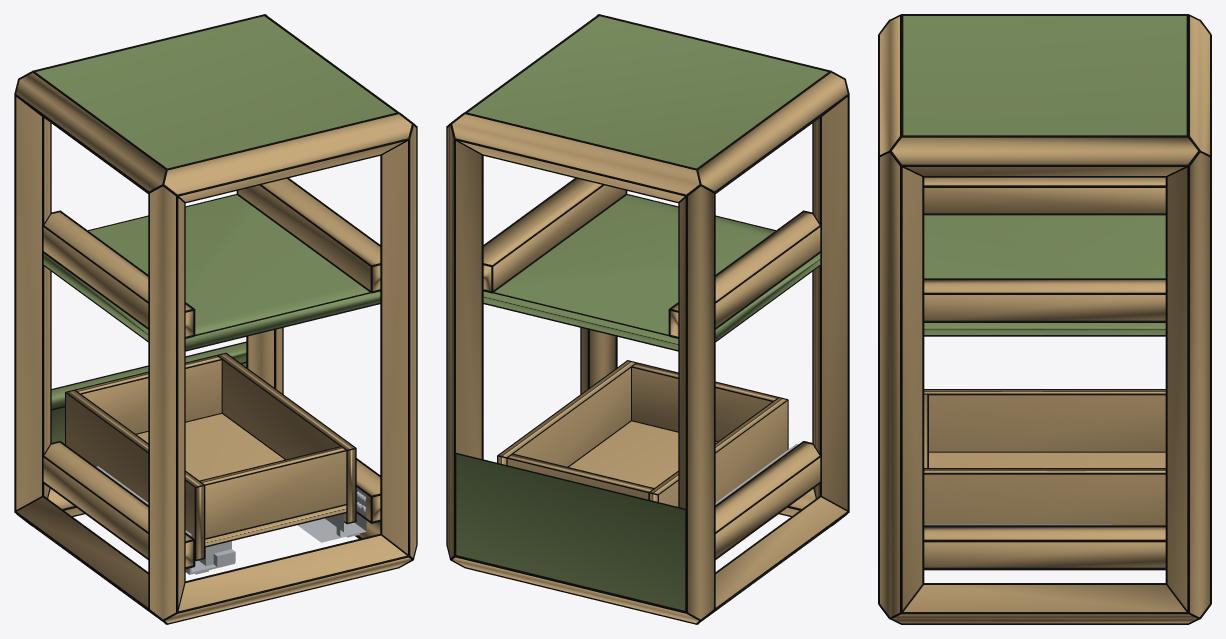
The model's file is 001-table-chevet.glb.
The picture shows the model from 3 angles, left to right: view 1: azimuth 30°, elevation 25°; view 2: azimuth 150°, elevation 25°; view 3: azimuth 270°, elevation 25°; orthographic projection. The views are drawn at different scales.
Visible parts, largest first — view 1: panneau-dessus_exterieur, tablette-plate-mod-0, arete-Z0, arete-Z1, arete-Z2, drawer-box-avant-mod-1, arete-X2, arete-X0, drawer-box-joue_d-mod-1, drawer-box-joue_g-mod-1, tablette-traverse-right-mod-0, tablette-traverse-left-mod-0 (+27 smaller); view 2: panneau-dessus_exterieur, drawer-box-facade-mod-1, tablette-plate-mod-0, arete-Z2, arete-Z0, arete-Z3, arete-X3, drawer-box-joue_d-mod-1, tablette-traverse-right-mod-0, tablette-traverse-left-mod-0, drawer-tr-drawer-traverse-left-mod-1, drawer-box-joue_g-mod-1 (+23 smaller); view 3: panneau-dessus_exterieur, tablette-plate-mod-0, arete-Z1, arete-Z3, drawer-box-joue_g-mod-1, drawer-box-joue_d-mod-1, arete-Y3, arete-Y1, tablette-traverse-right-mod-0, drawer-tr-drawer-traverse-right-mod-1, tablette-traverse-left-mod-0, drawer-box-dessous-mod-1 (+16 smaller).
Boxes of the visible parts, <box> form: panneau-dessus_exterieur: <box>36,16,395,168</box>; tablette-plate-mod-0: <box>43,195,380,349</box>; arete-Z0: <box>150,186,184,619</box>; arete-Z1: <box>382,126,416,557</box>; arete-Z2: <box>16,97,50,509</box>; drawer-box-avant-mod-1: <box>201,447,346,538</box>; arete-X2: <box>164,114,411,201</box>; arete-X0: <box>165,535,410,623</box>; drawer-box-joue_d-mod-1: <box>218,354,355,522</box>; drawer-box-joue_g-mod-1: <box>66,390,203,559</box>; tablette-traverse-right-mod-0: <box>238,178,380,290</box>; tablette-traverse-left-mod-0: <box>43,212,193,336</box>; panneau-dessus_exterieur: <box>468,16,827,168</box>; drawer-box-facade-mod-1: <box>456,454,685,610</box>; tablette-plate-mod-0: <box>483,195,820,349</box>; arete-Z2: <box>679,186,713,619</box>; arete-Z0: <box>813,97,847,509</box>; arete-Z3: <box>447,126,481,557</box>; arete-X3: <box>452,114,699,201</box>; drawer-box-joue_d-mod-1: <box>498,361,634,466</box>; tablette-traverse-right-mod-0: <box>483,178,625,290</box>; tablette-traverse-left-mod-0: <box>670,212,820,336</box>; drawer-tr-drawer-traverse-left-mod-1: <box>715,442,820,557</box>; drawer-box-joue_g-mod-1: <box>650,398,787,506</box>; panneau-dessus_exterieur: <box>903,16,1186,135</box>; tablette-plate-mod-0: <box>924,215,1165,334</box>; arete-Z1: <box>880,152,922,617</box>; arete-Z3: <box>1167,152,1209,617</box>; drawer-box-joue_g-mod-1: <box>924,390,1165,451</box>; drawer-box-joue_d-mod-1: <box>924,469,1165,525</box>; arete-Y3: <box>892,137,1197,175</box>; arete-Y1: <box>892,585,1197,623</box>; tablette-traverse-right-mod-0: <box>924,280,1165,320</box>; drawer-tr-drawer-traverse-right-mod-1: <box>924,527,1165,567</box>; tablette-traverse-left-mod-0: <box>924,177,1165,213</box>; drawer-box-dessous-mod-1: <box>929,452,1165,467</box>.
Bounding box in the file's own units: 0.3238 × 0.5238 × 0.3238.
